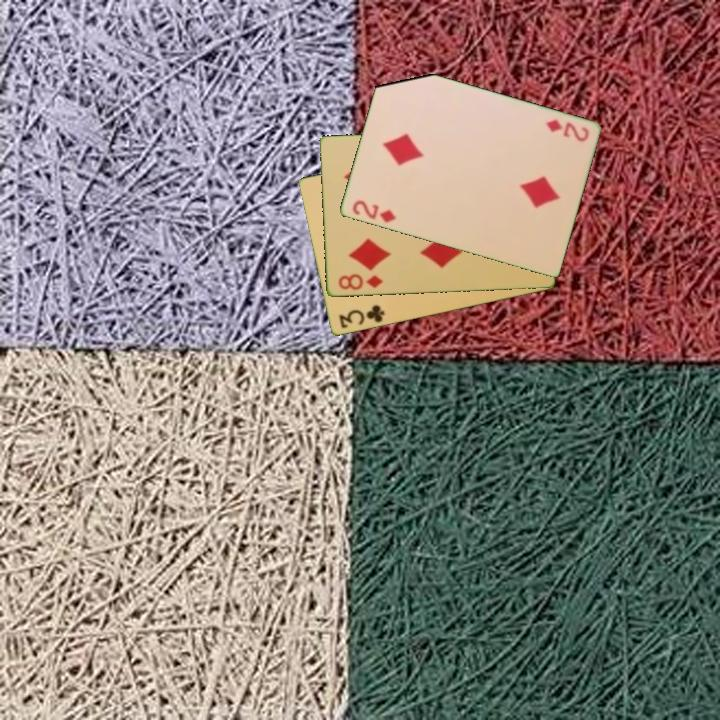2d: (348, 197, 398, 226), (542, 116, 592, 145)
3c: (335, 302, 387, 332)
8d: (335, 271, 385, 293)
